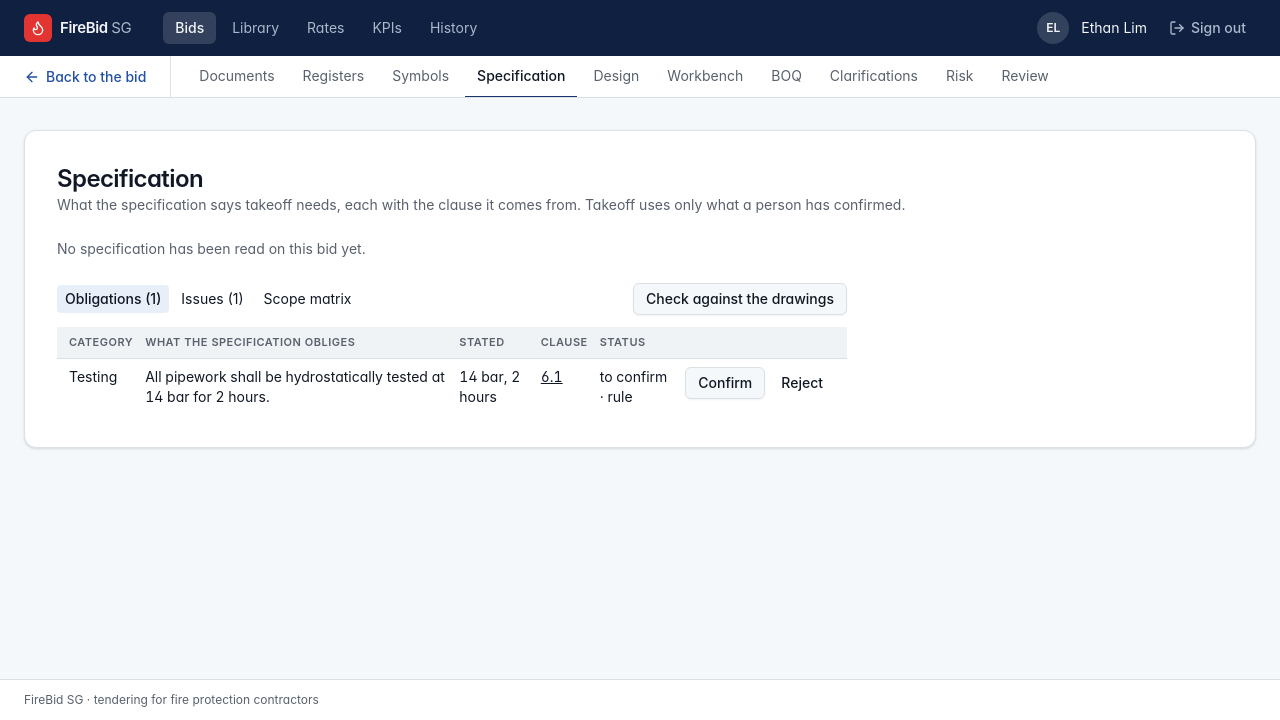
Test: the specification analysis › shows an issue with both sides cited, and takes the reader to each
Step 1. Click the button "Issues (1)" → (212, 299), box [173,285,252,313]
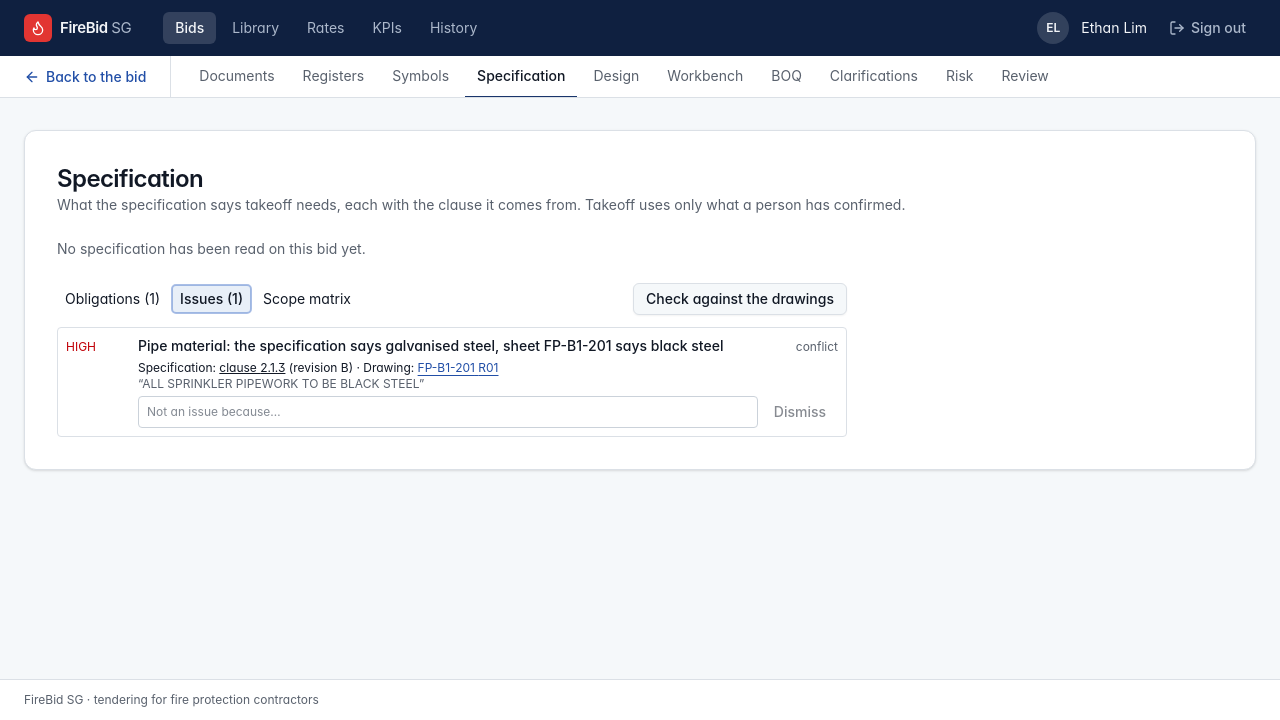
Result: the text "Pipe material: the specification says galvanised steel, sheet FP-B1-201 says black steel" is shown at [138,337,724,354]
Result: the text "high" is shown at [66,339,96,354]
Result: the text "“ALL SPRINKLER PIPEWORK TO BE BLACK STEEL”" is shown at [138,376,424,391]
Step 2. Click the button "clause 2.1.3" → (252, 368), box [219,360,285,376]
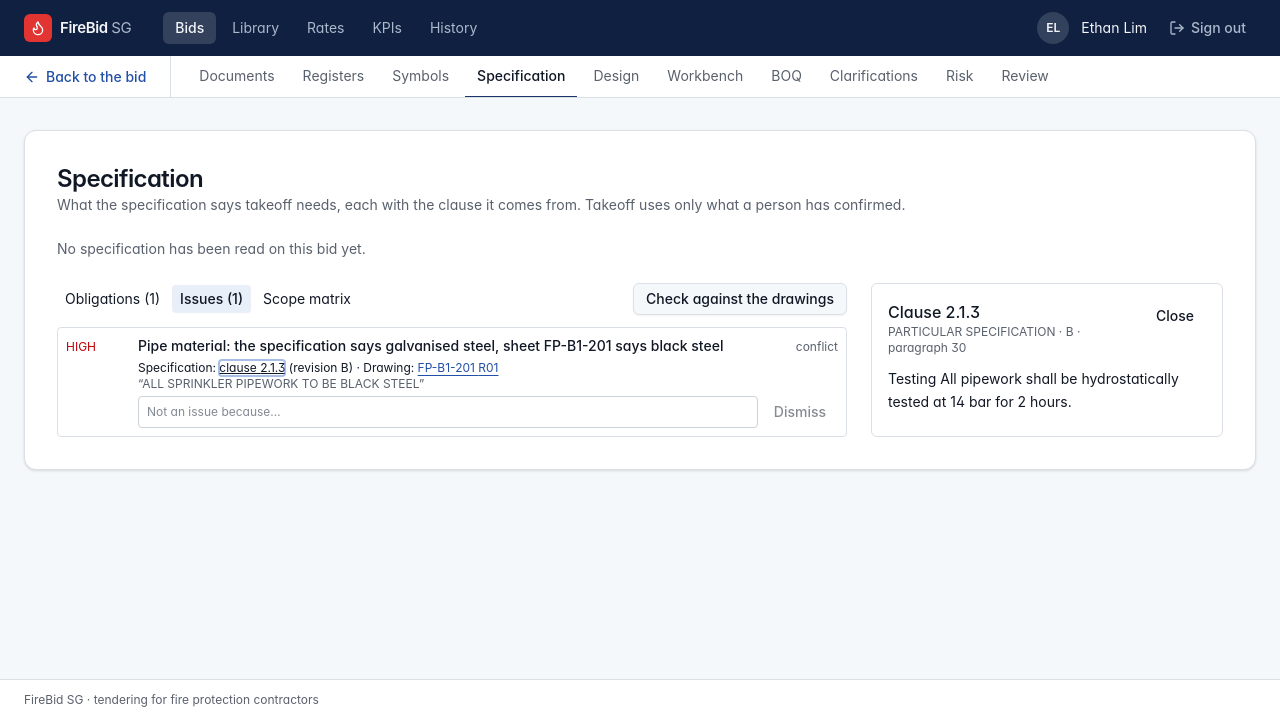
Result: the element named "Cited clause" is shown at [871,283,1223,437]
